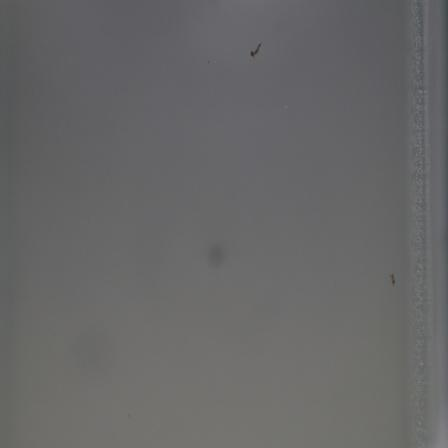Jentik-Nyamuk: (246, 39, 265, 61), (386, 270, 400, 291)
